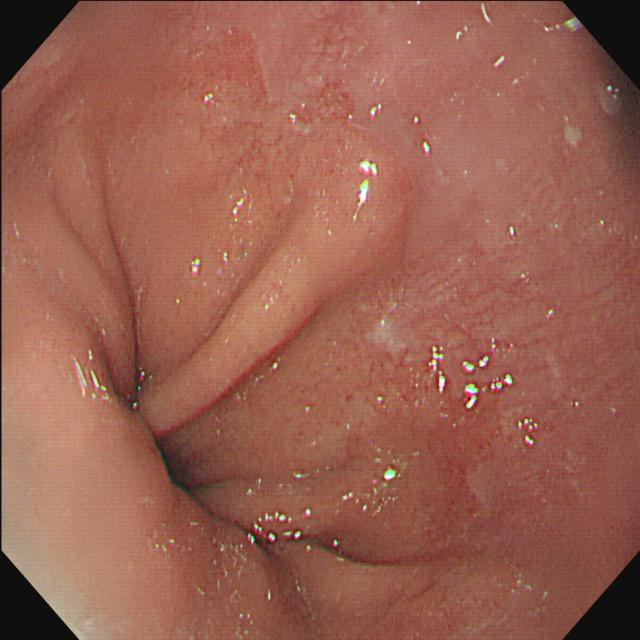A: (348, 335, 424, 425)
I: (34, 36, 507, 577)
U: (461, 355, 516, 411), (247, 510, 314, 547), (73, 350, 107, 401), (372, 469, 403, 516), (357, 158, 381, 216), (428, 342, 450, 396), (518, 417, 541, 448)
